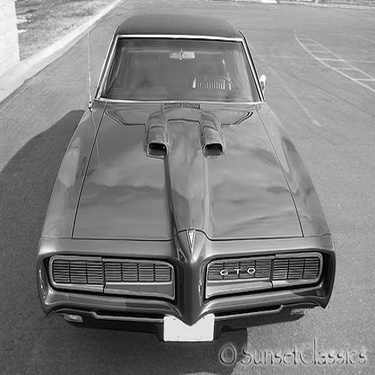car: (29, 6, 341, 354)
